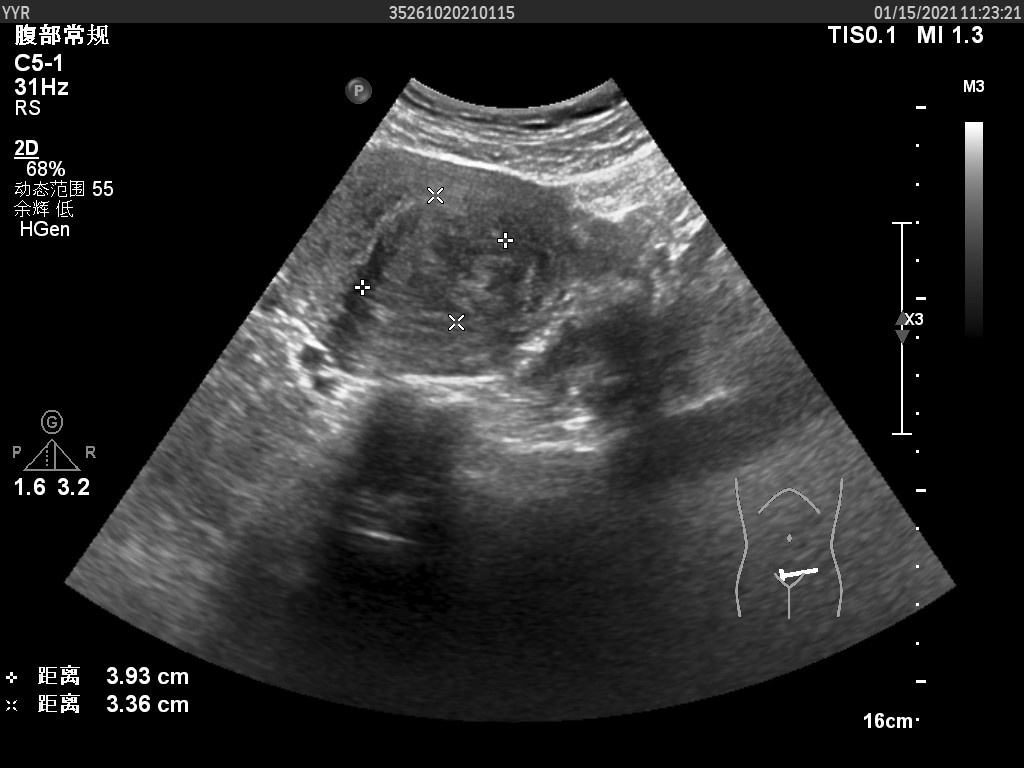肌瘤: (374, 199, 499, 313)
